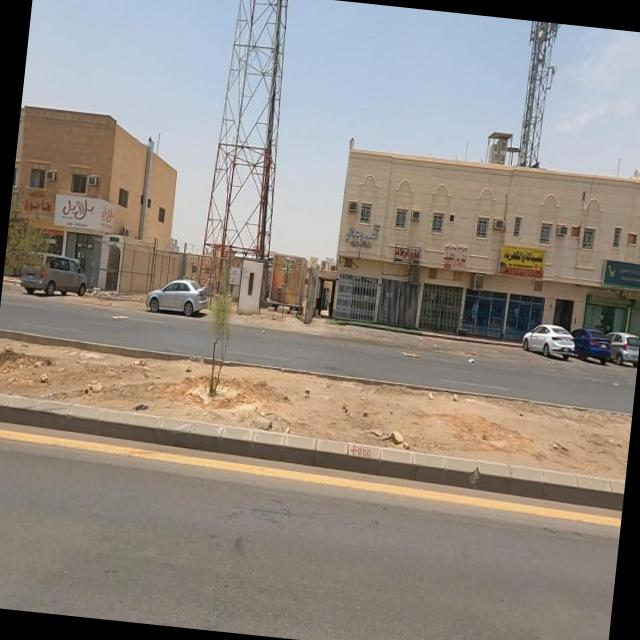debris: (448, 335, 490, 390)
